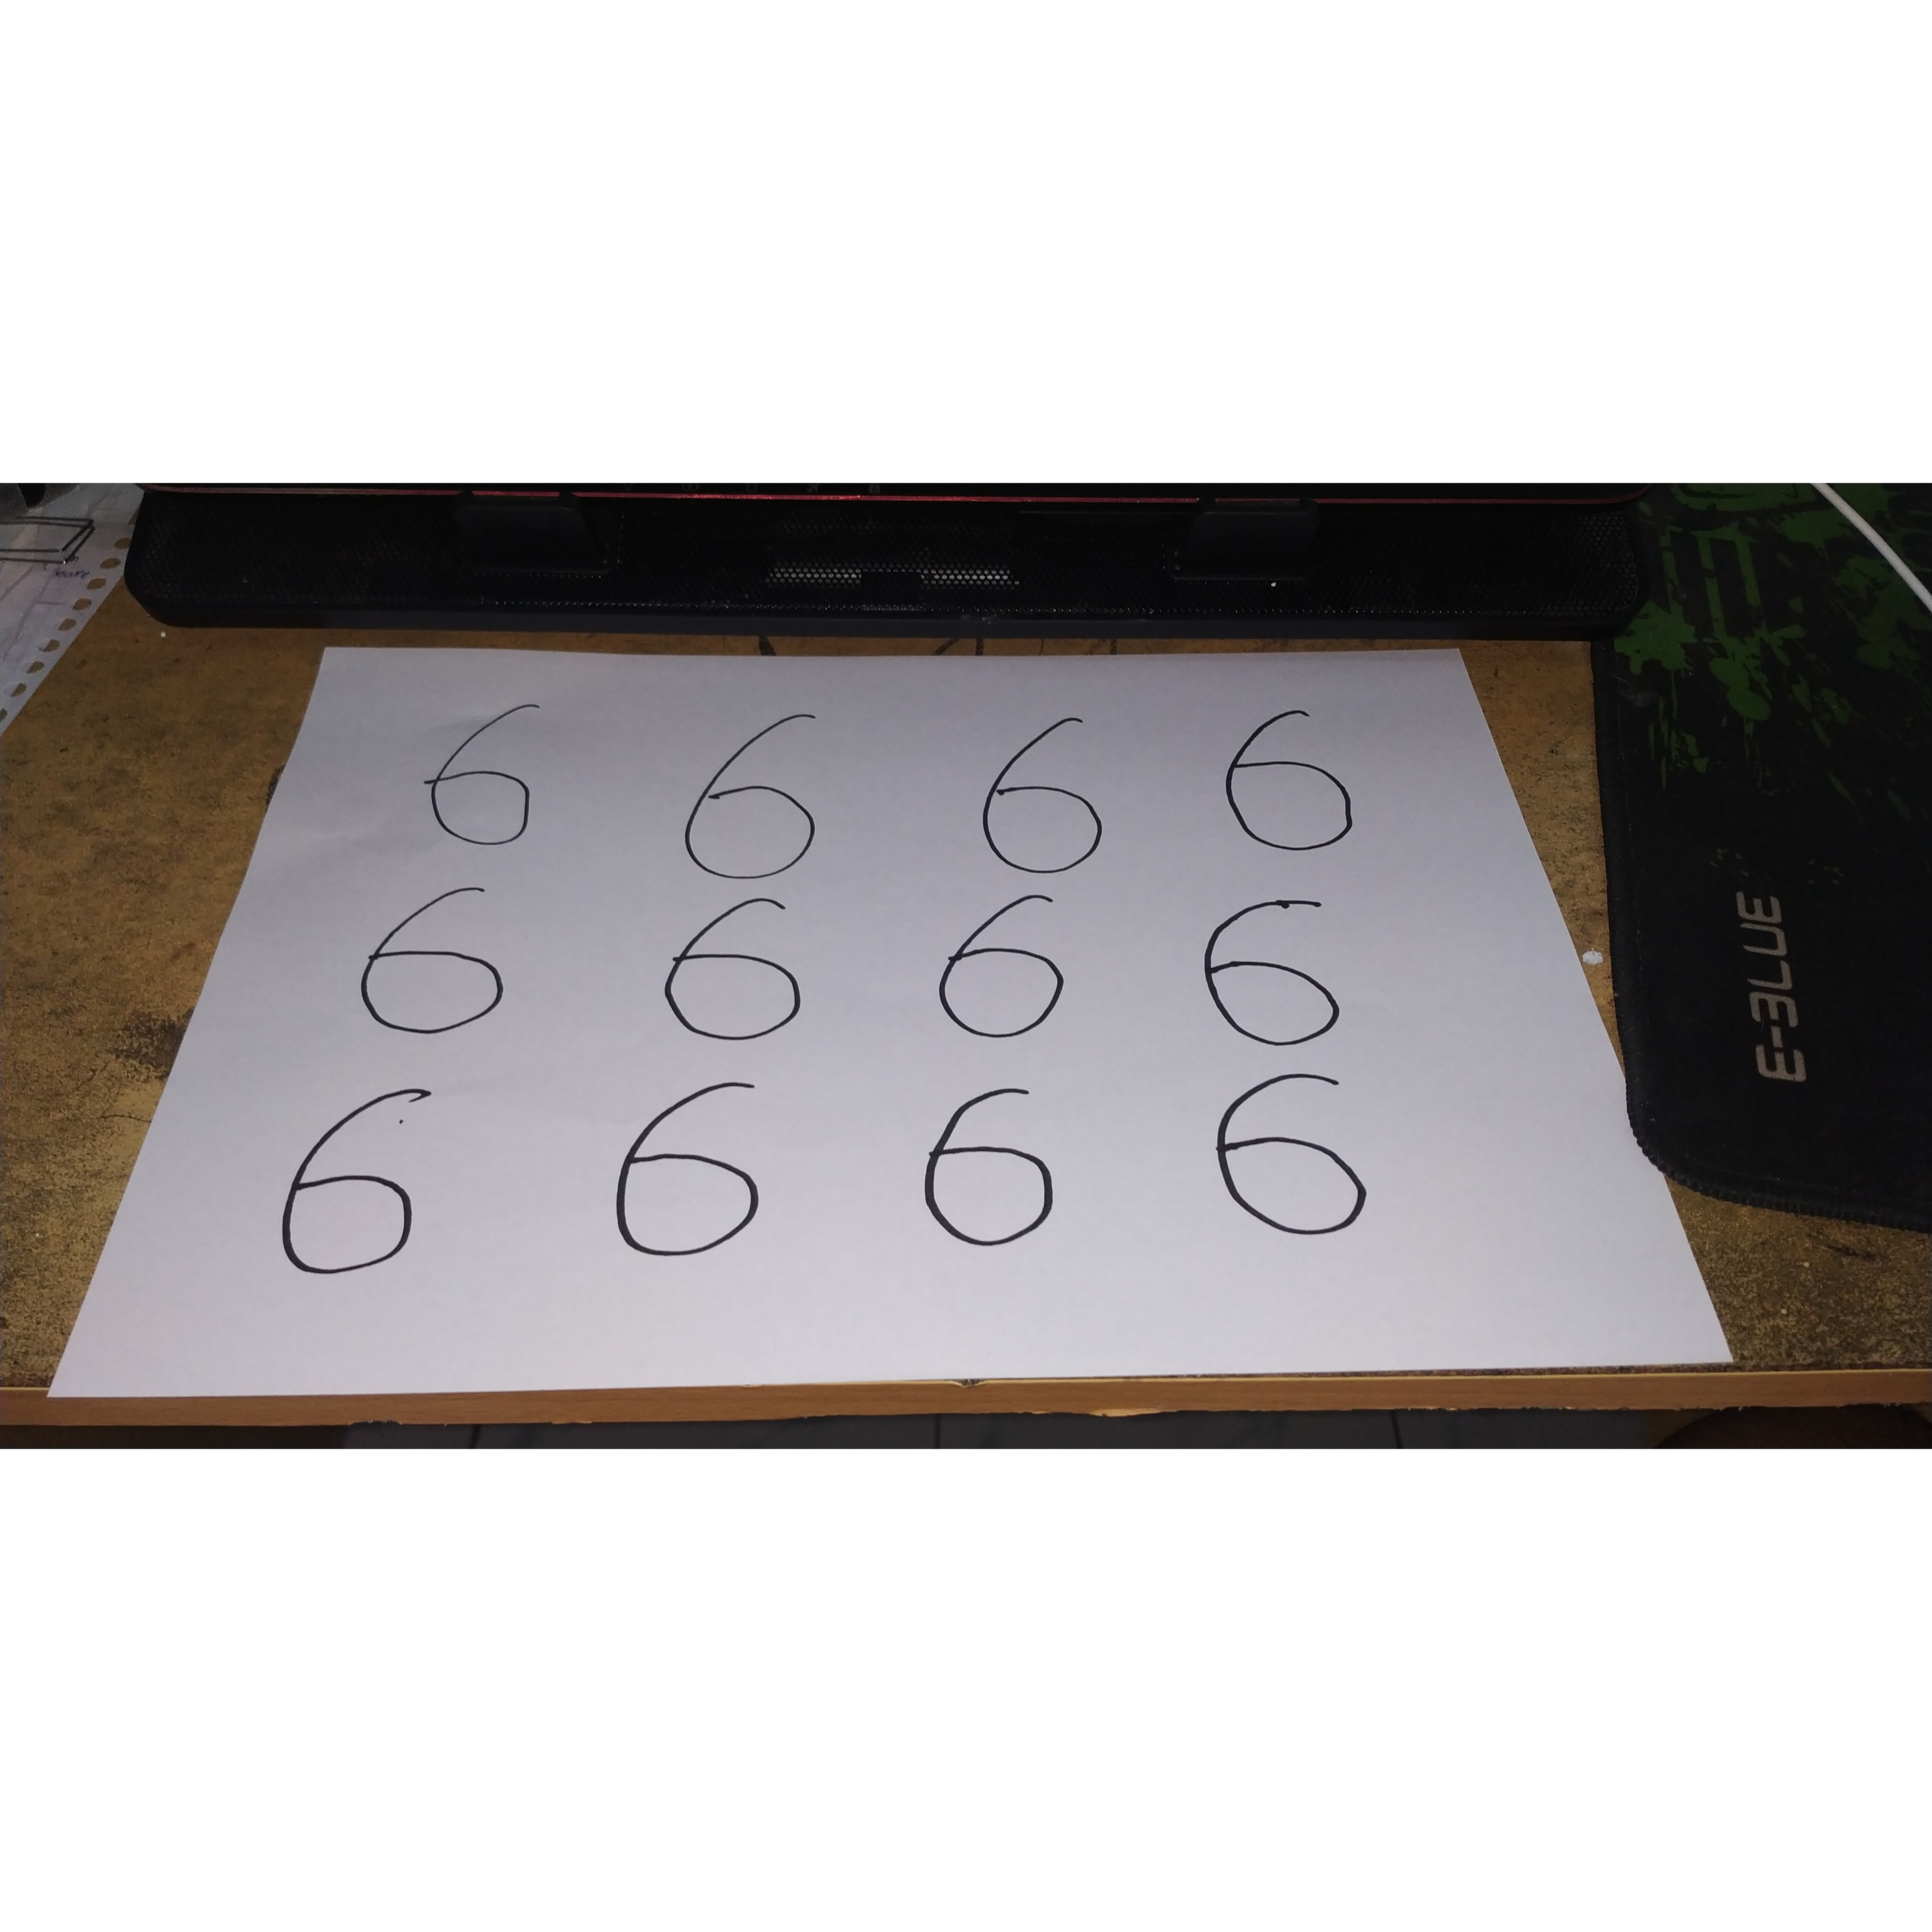num6: (242, 1071, 488, 1293), (1202, 1065, 1416, 1254), (662, 689, 849, 896), (956, 697, 1151, 888), (1204, 695, 1412, 869), (606, 1069, 780, 1273), (396, 666, 574, 863), (330, 876, 528, 1048), (929, 890, 1106, 1069), (1190, 884, 1362, 1054), (919, 1086, 1082, 1264), (656, 896, 832, 1054)
